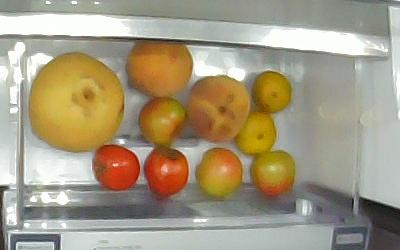peach: (188, 75, 250, 142), (127, 39, 192, 99)
pear: (27, 51, 124, 152)
tangerine: (235, 110, 277, 155), (250, 70, 292, 112)
tomato: (138, 98, 186, 146), (194, 148, 242, 195), (143, 148, 189, 197), (93, 144, 139, 190), (249, 150, 294, 196)
